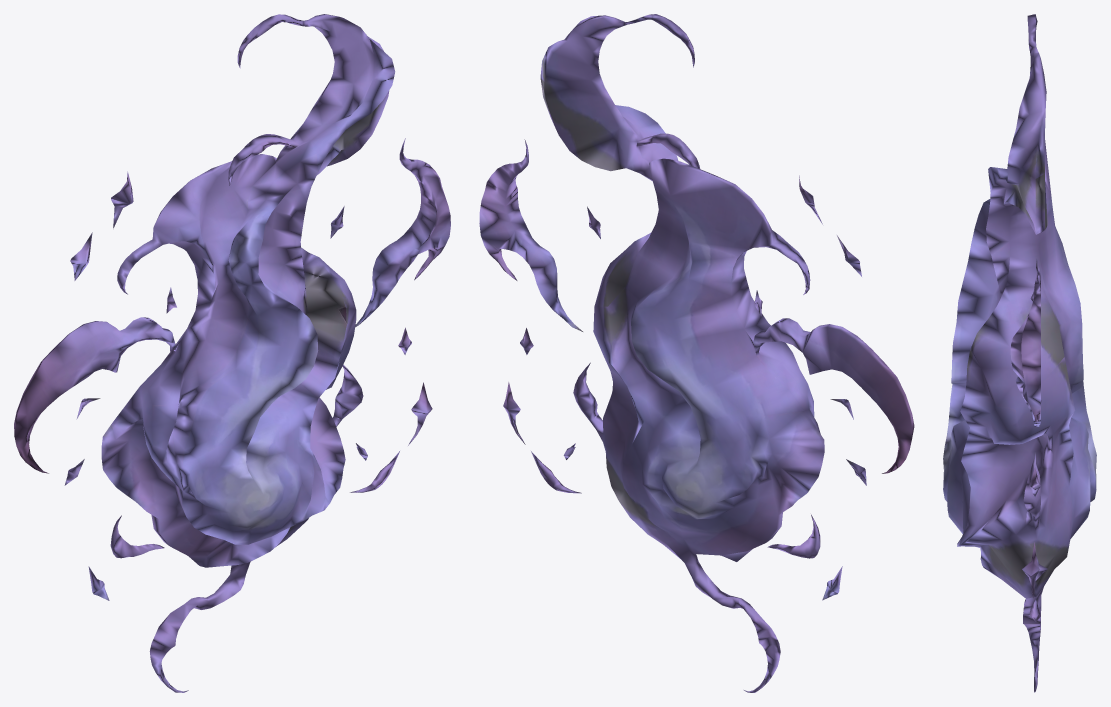
File: seelenlicht_nebellicht.glb
The picture shows the model from 3 angles, left to right: view 1: azimuth 30°, elevation 25°; view 2: azimuth 150°, elevation 25°; view 3: azimuth 270°, elevation 25°; orthographic projection. The views are drawn at different scales.
Parts seen in each view (by area): view 1: baum; view 2: baum; view 3: baum.
Boxes of the visible parts, box(x1,y1,x2,y2) form: baum: box(14, 14, 450, 692); baum: box(479, 14, 914, 692); baum: box(943, 14, 1096, 692).
Bounding box in the file's own units: 0.554 × 0.8 × 0.1542.
Materials: 1 (1 with a texture image).
